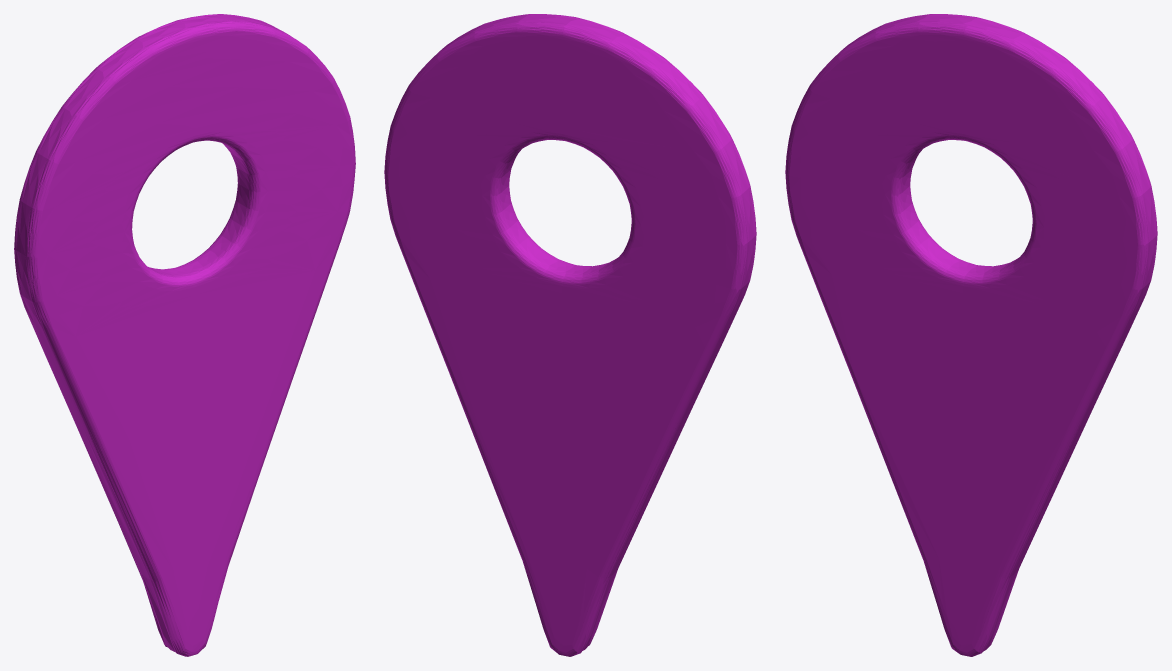
Rendered from fopoMarker.obj.
3 views of the same model, side by side, from view 1: azimuth 30°, elevation 25°; view 2: azimuth 150°, elevation 25°; view 3: azimuth 330°, elevation 25° (orthographic).
Parts seen in each view (by area): view 1: _STL_BINAR; view 2: _STL_BINAR; view 3: _STL_BINAR.
Boxes of the visible parts, x1=… form: _STL_BINAR: x1=14, y1=14, x2=355, y2=656; _STL_BINAR: x1=384, y1=14, x2=756, y2=656; _STL_BINAR: x1=785, y1=14, x2=1157, y2=656.
Bounding box in the file's own units: 0.3437 × 0.5961 × 0.0584.
